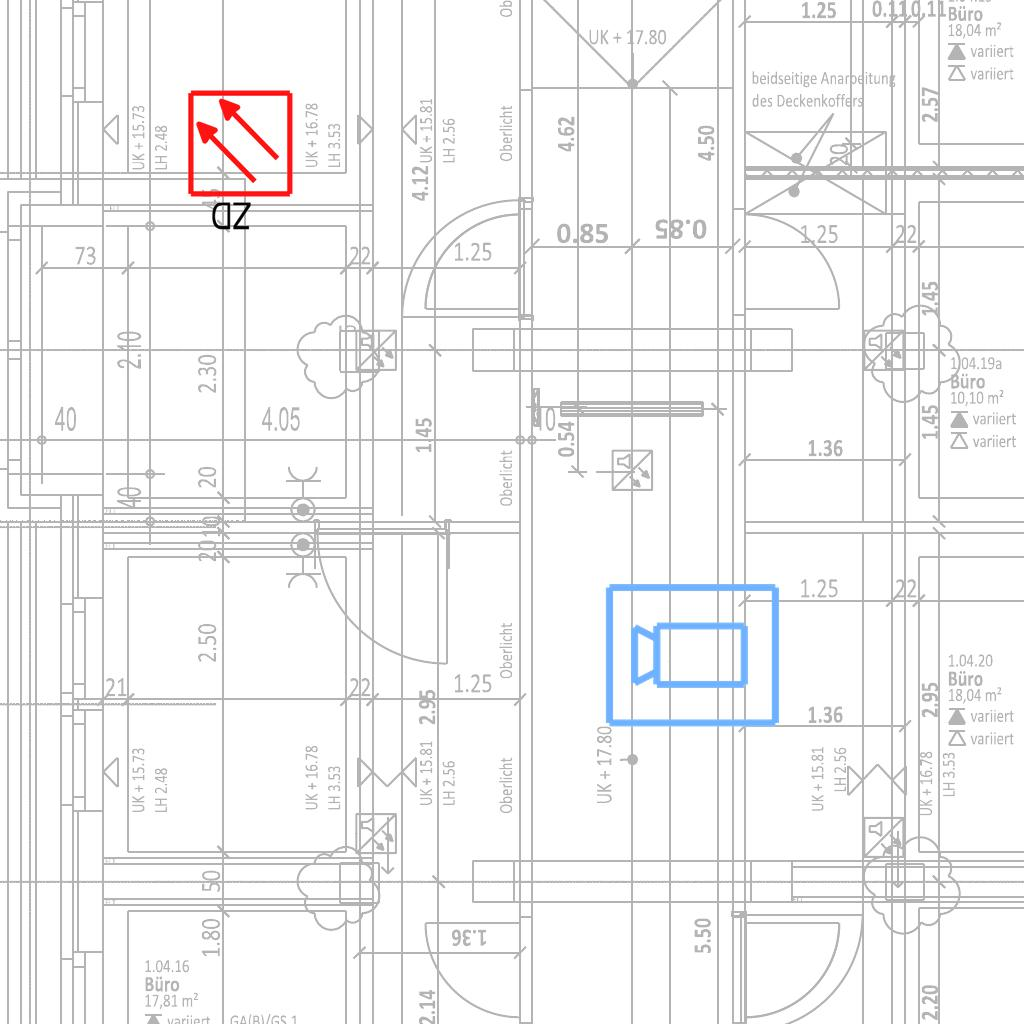KFO_Kamera_mit_Festobjektiv: (602, 577, 784, 731)
ZD_Melder_in_Zwischendecke_mit_Revisionsoeffnung_mind_40_x_40_cm: (185, 88, 299, 237)
